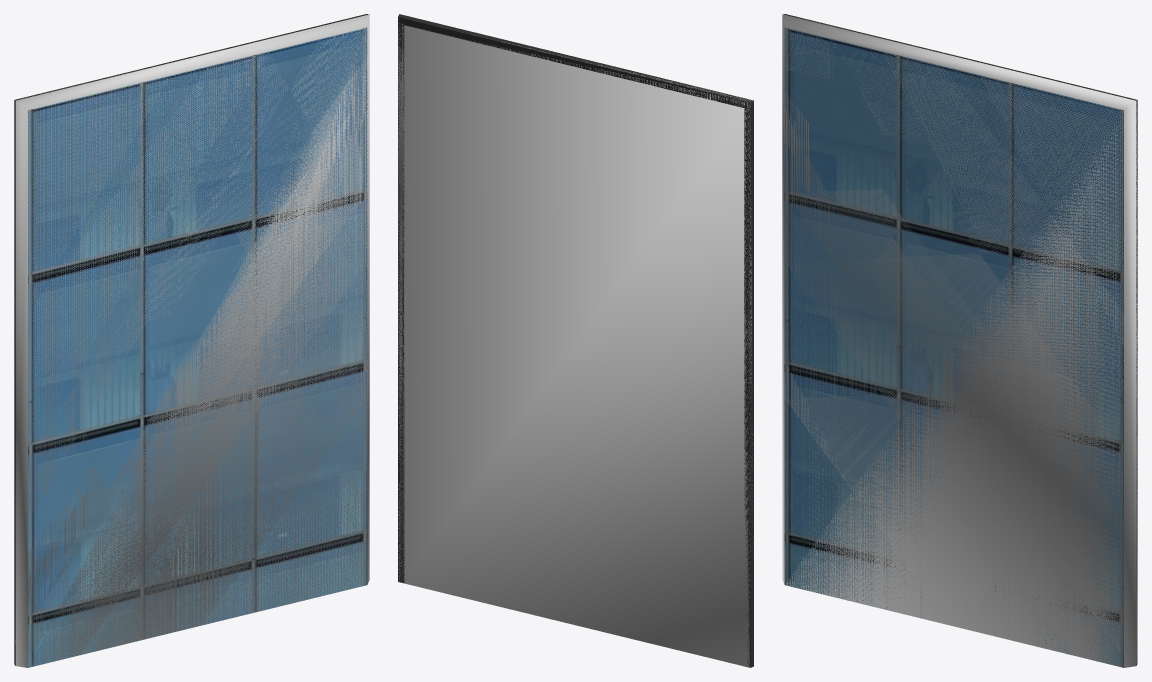
3 renders of one model, left to right at view 1: azimuth 30°, elevation 25°; view 2: azimuth 150°, elevation 25°; view 3: azimuth 330°, elevation 25°, orthographic.
Visible parts, largest first — view 1: struct_city_block_low_tier2_a_01, struct_city_block_low_tier2_a_01_col; view 2: struct_city_block_low_tier2_a_01_col, struct_city_block_low_tier2_a_01; view 3: struct_city_block_low_tier2_a_01_col, struct_city_block_low_tier2_a_01.
Part boxes in pixels (bbox=[...]): struct_city_block_low_tier2_a_01: bbox=[14, 14, 368, 667]; struct_city_block_low_tier2_a_01_col: bbox=[14, 14, 369, 667]; struct_city_block_low_tier2_a_01_col: bbox=[398, 18, 753, 667]; struct_city_block_low_tier2_a_01: bbox=[398, 14, 753, 667]; struct_city_block_low_tier2_a_01_col: bbox=[782, 14, 1137, 667]; struct_city_block_low_tier2_a_01: bbox=[783, 14, 1137, 667].
Size of the model in its own units: 3.58 by 5.46 by 0.1283.
Materials: 2 (2 with a texture image).
